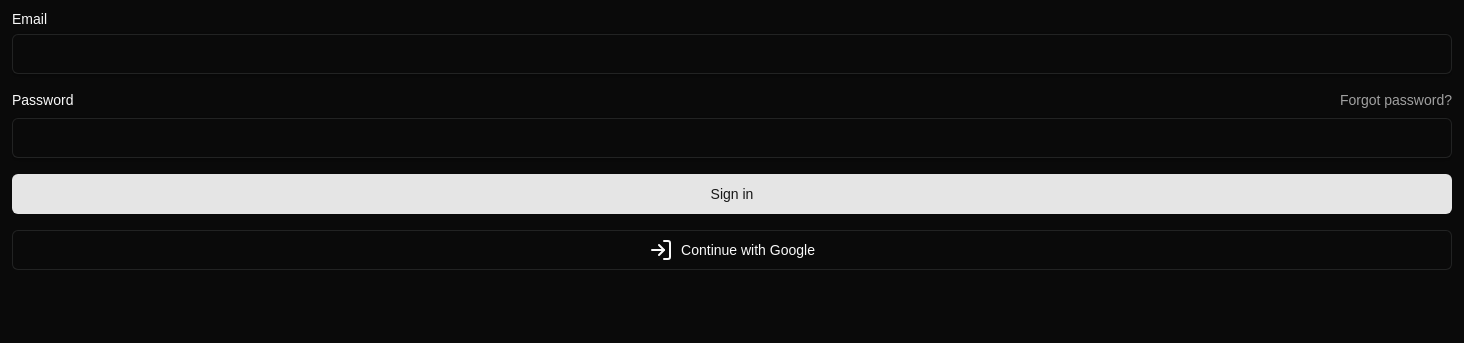
Test: auth forms › shows meaningful errors for invalid sign in values
Type "bad-email" into the field labelled "Email" at (732, 54), box [12,34,1452,74]
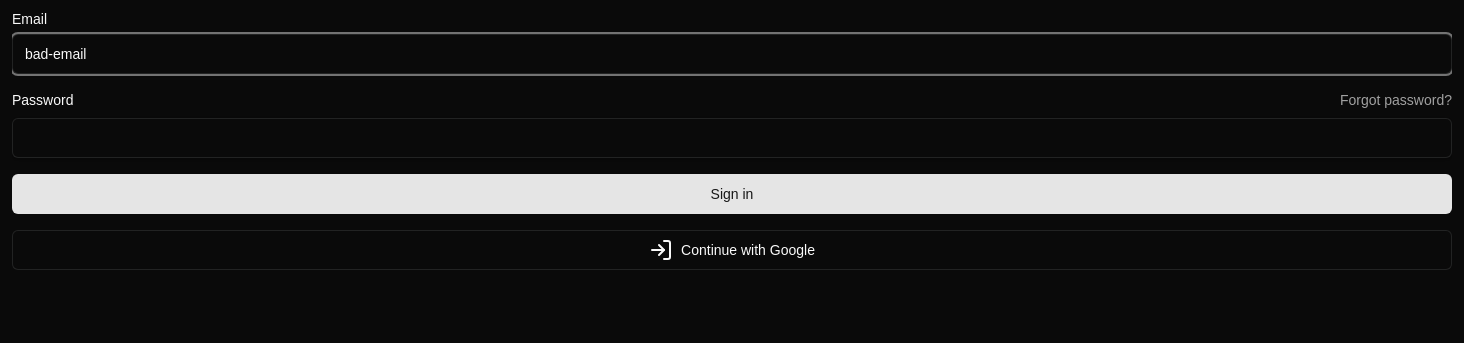
Type "short" into the password field labelled "Password" at (732, 138), box [12,118,1452,158]
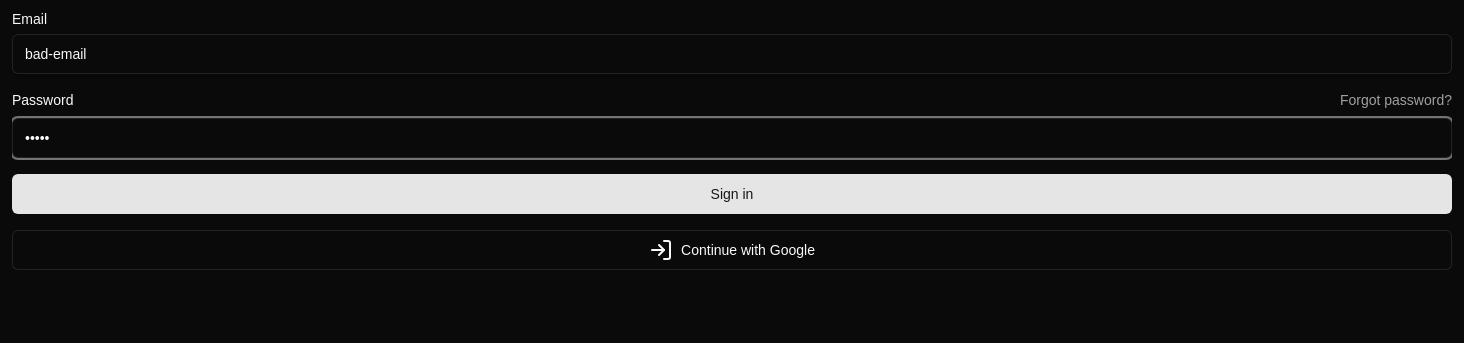
Click the button "Sign in" at (732, 194), box [12,174,1452,214]
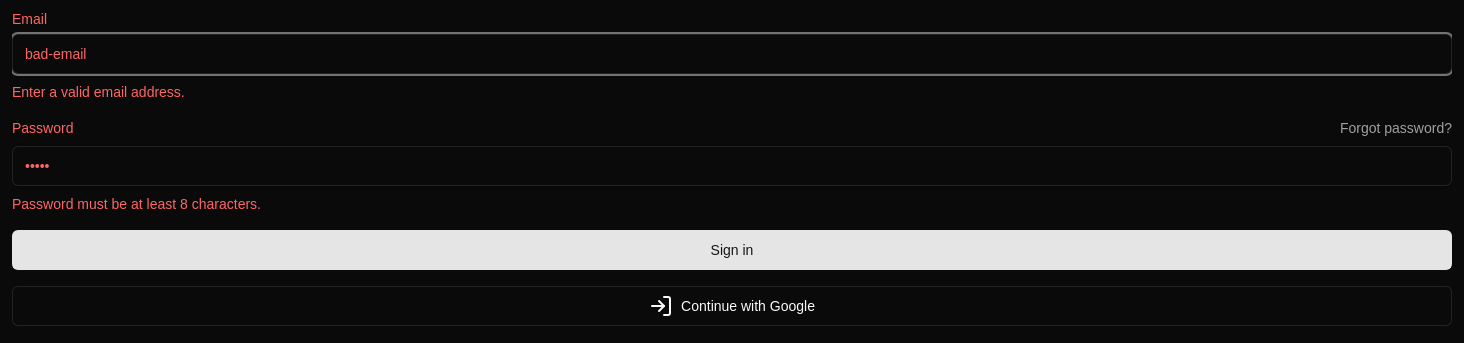
Expected: the text "Enter a valid email address." is shown, [12,84,185,100]
Expected: the text "Password must be at least 8 characters." is shown, [12,196,261,212]
